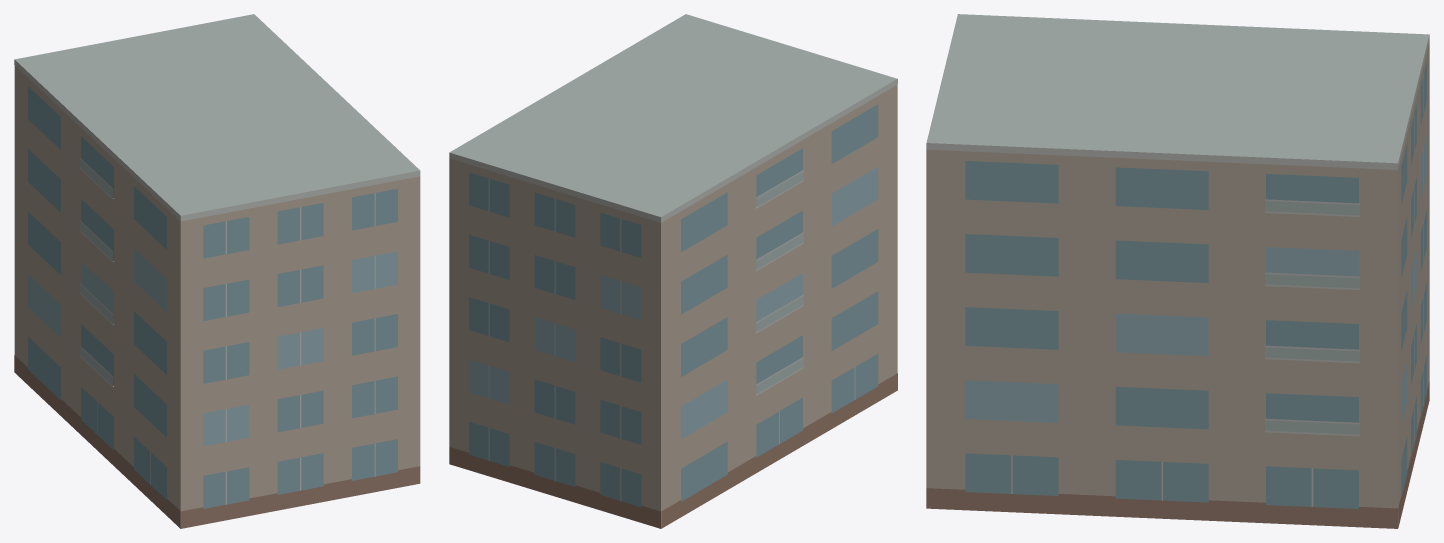
Rendered from survey-upis-32669116.glb.
3 renders of one model, left to right at view 1: azimuth 30°, elevation 25°; view 2: azimuth 150°, elevation 25°; view 3: azimuth 270°, elevation 25°, orthographic. The views are drawn at different scales.
Parts seen in each view (by area): view 1: survey-upis-32669116.tmp; view 2: survey-upis-32669116.tmp; view 3: survey-upis-32669116.tmp.
Boxes of the visible parts, x1,y1,x2,y2 form: survey-upis-32669116.tmp: (14,14,420,528); survey-upis-32669116.tmp: (449,14,897,528); survey-upis-32669116.tmp: (926,14,1429,528).
Bounding box in the file's own units: 11.75 × 13.4 × 16.72.
